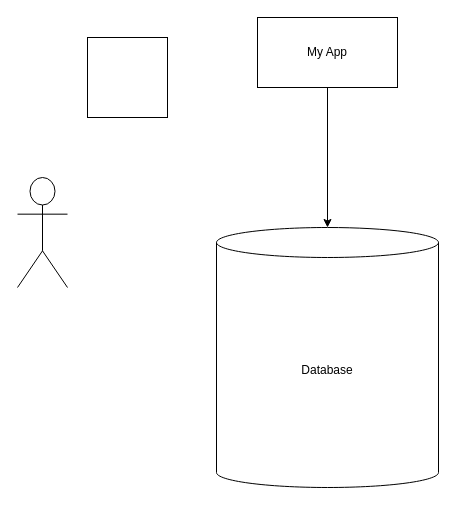
The diagram is 456 pixels wide and 505 high, and some of its shapes have lost their labels. Here are the shapes that lost their labels. From the top down, the box of each, then its label:
(86, 36, 168, 118): HTML
(16, 176, 68, 288): Actor
